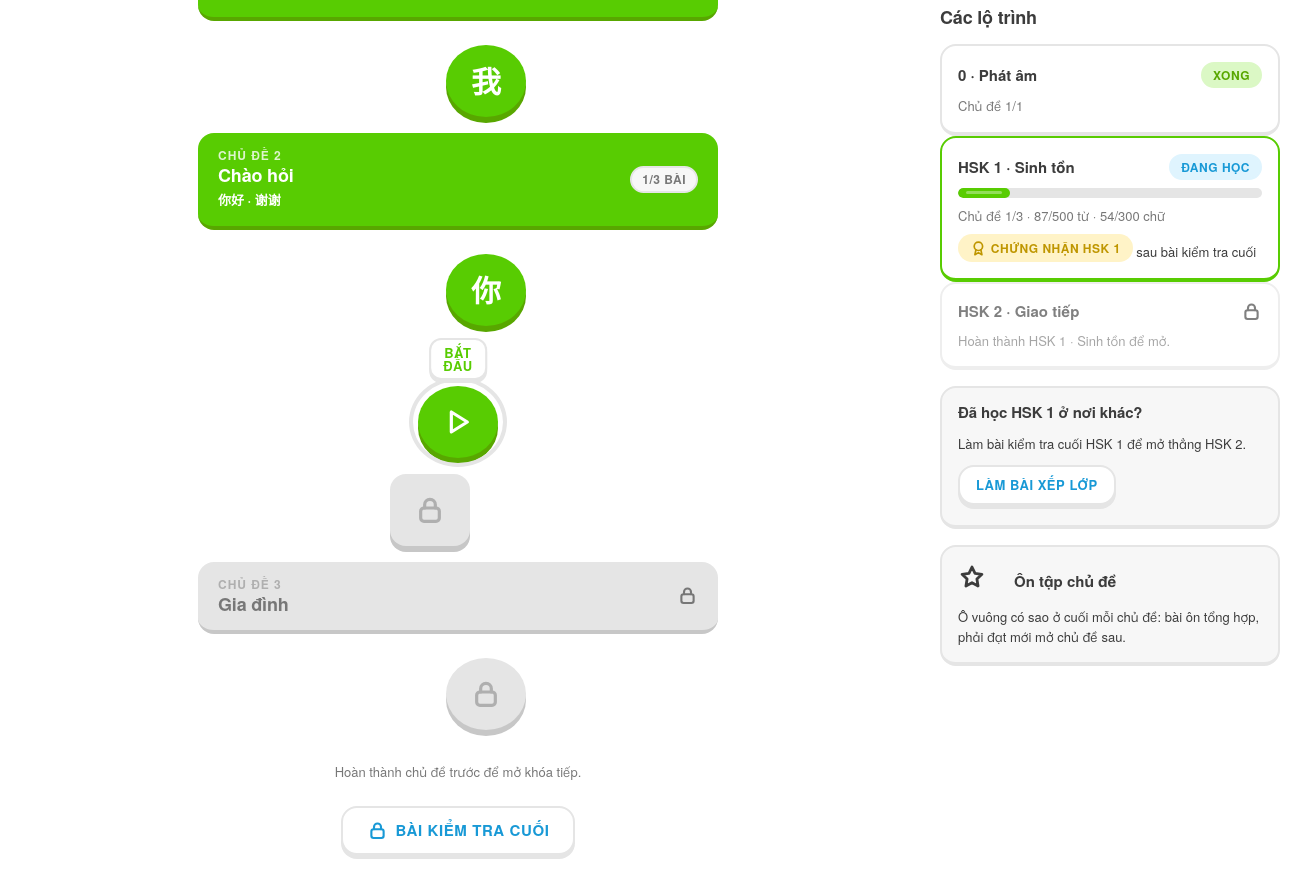
it: PathView › cuối lộ trình có nút Bài kiểm tra cuối (khóa → giải thích, không điều hướng)
(page scrolled)
Click the button with aria-label "Bài kiểm tra cuối, bị khóa" at (458, 830), box [340,806,575,855]
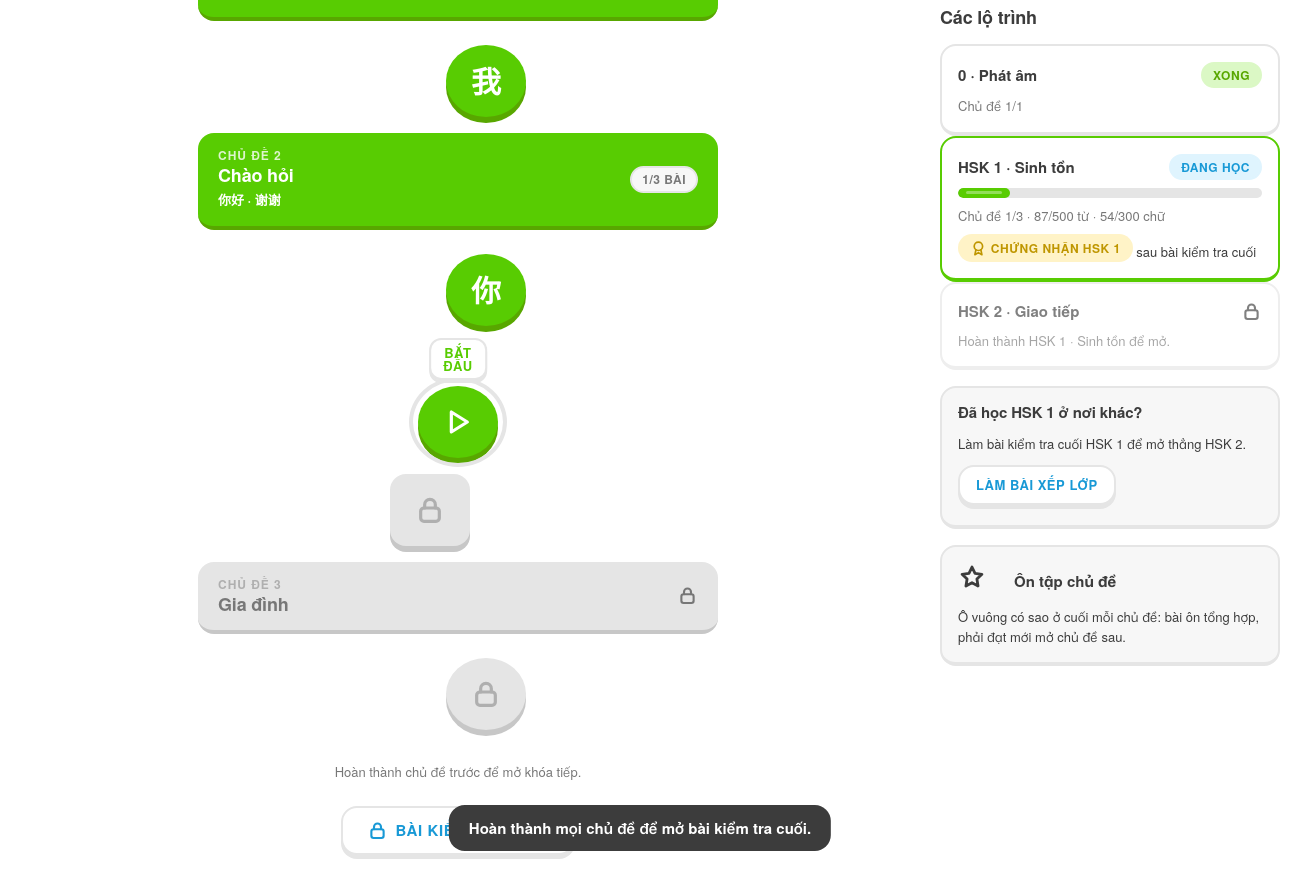
Now the message reads "Hoàn thành mọi chủ đề để mở bài kiểm tra cuối.", box [469,816,811,838]
